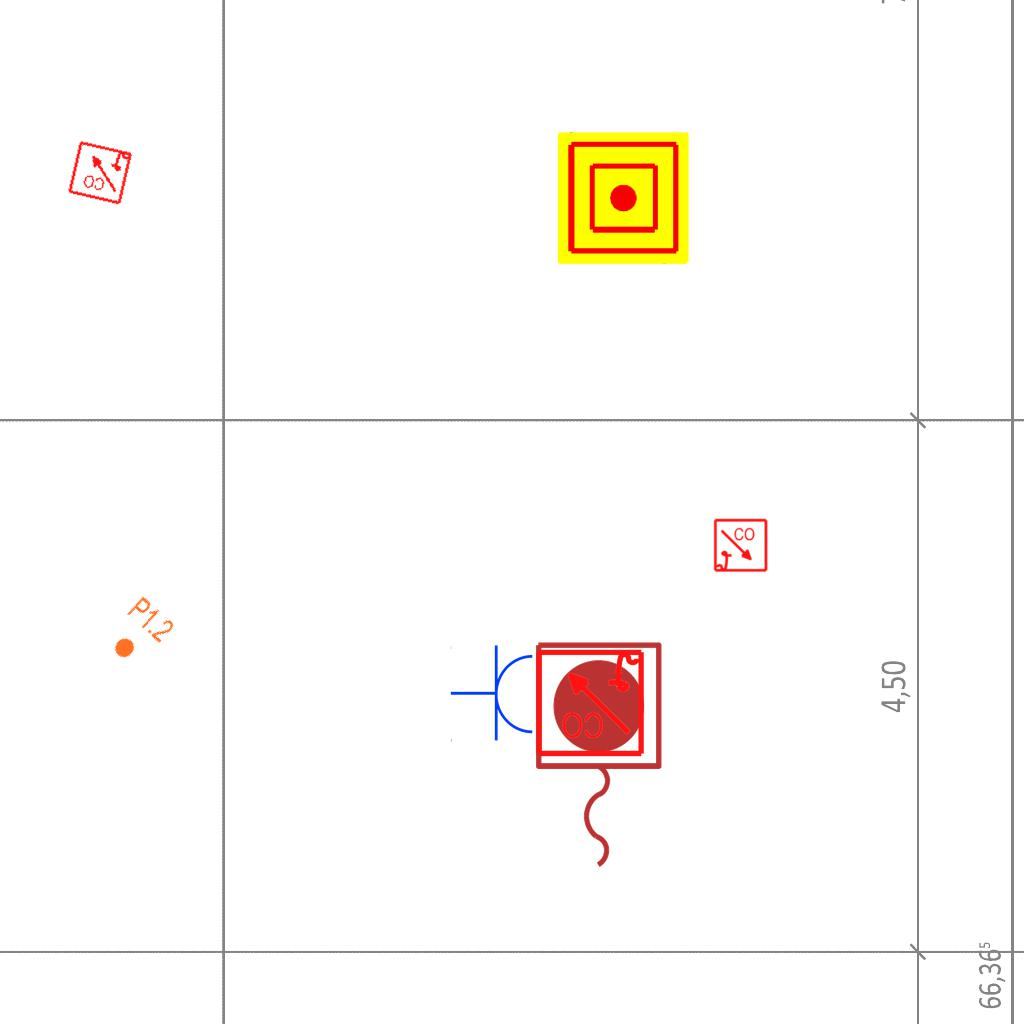Downlight_LED_Einbauleuchten_Flur: (100, 593, 178, 673)
NAM-Nichtautomatischer_Melder: (557, 132, 689, 264)
ROA_Rauchmelder_optisch_mit_Signalgeber_(Sockelsirene): (533, 645, 646, 758), (66, 138, 134, 206), (713, 518, 769, 574)
Schukosteckdose_einfach: (450, 644, 537, 744)
Zugtaster: (525, 634, 669, 878)
